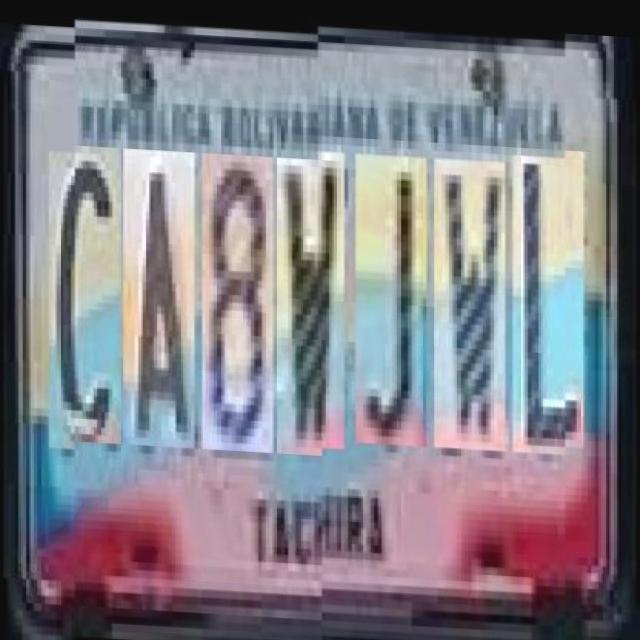8: (202, 142, 273, 442)
a: (124, 138, 194, 439)
c: (49, 135, 120, 435)
j: (356, 149, 426, 441)
l: (513, 148, 584, 449)
w: (277, 145, 345, 446), (434, 153, 504, 445)
